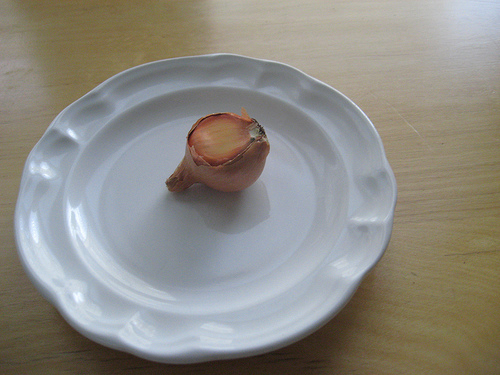onion: (167, 113, 269, 192)
